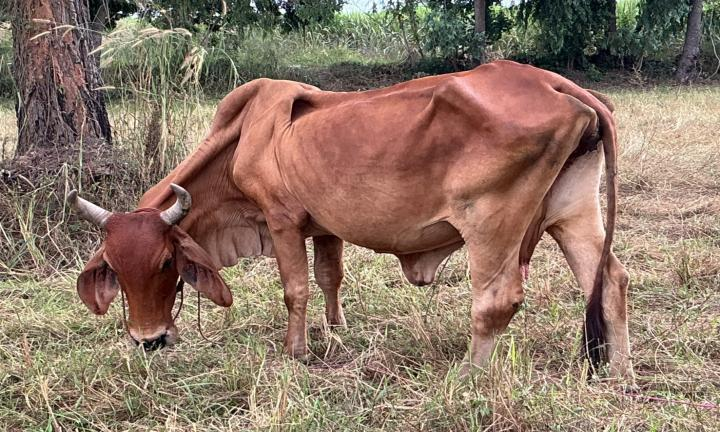Brahman: (68, 60, 634, 384)
